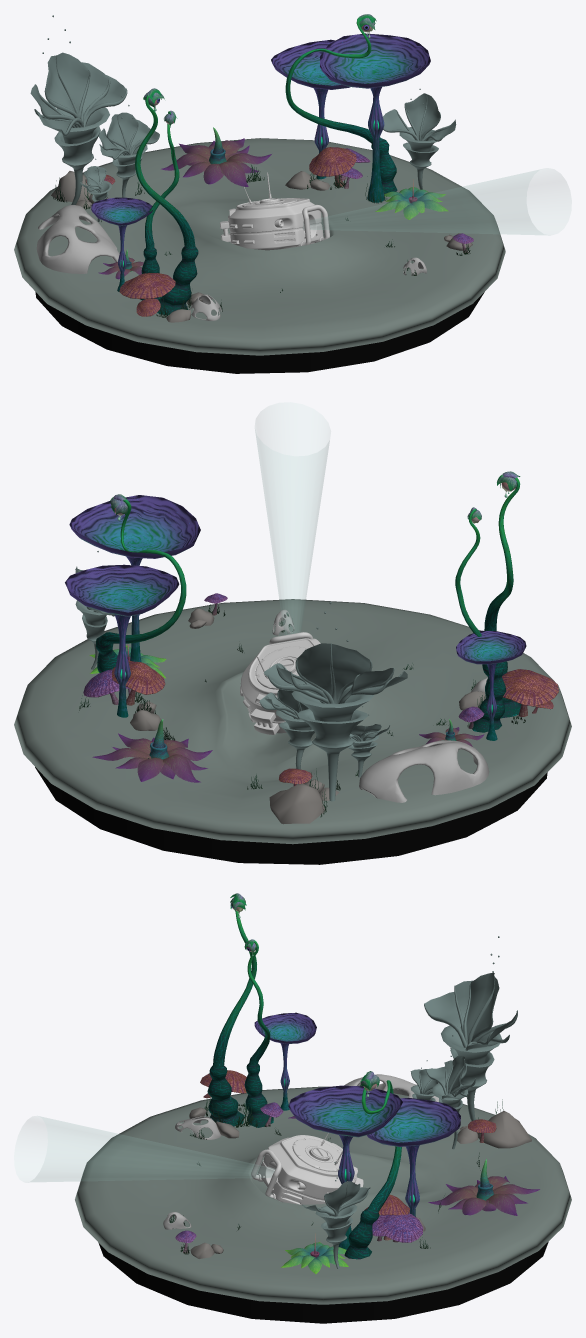
File: alien-world.fbx
The picture shows the model from 3 angles, top to bottom: view 1: azimuth 30°, elevation 25°; view 2: azimuth 150°, elevation 25°; view 3: azimuth 270°, elevation 25°; orthographic projection. The views are drawn at different scales.
Visible parts, largest first — view 1: polySurface162, pCylinder34, groundBlack, Biig_LP, AlienRock1_LP, pSphere15, Fmid1_LP, polySurface204, polySurface128, PeacockPlant4, polySurface219, Peacock1_LP (+11 smaller); view 2: polySurface162, pCylinder34, groundBlack, Biig_LP, polySurface128, AlienRock1_LP, Peacock1_LP, Fmid1_LP, Pealeaf1_LP, polySurface129, Rocks_LP, polySurface219 (+9 smaller); view 3: polySurface162, pCylinder34, groundBlack, Biig_LP, polySurface128, polySurface204, Fmid1_LP, pSphere15, polySurface219, polySurface129, polySurface197, Peacock1_LP (+10 smaller).
Part boxes in pixels (bbox=[...]): polySurface162: bbox=[14, 138, 505, 355]; pCylinder34: bbox=[219, 169, 546, 250]; groundBlack: bbox=[35, 292, 484, 373]; Biig_LP: bbox=[320, 33, 430, 202]; AlienRock1_LP: bbox=[36, 205, 119, 273]; pSphere15: bbox=[383, 88, 456, 189]; Fmid1_LP: bbox=[161, 127, 271, 186]; polySurface204: bbox=[135, 95, 198, 315]; polySurface128: bbox=[271, 39, 350, 179]; PeacockPlant4: bbox=[98, 112, 159, 197]; polySurface219: bbox=[285, 17, 397, 193]; Peacock1_LP: bbox=[54, 107, 109, 204]; polySurface162: bbox=[14, 599, 571, 844]; pCylinder34: bbox=[240, 429, 329, 734]; groundBlack: bbox=[35, 767, 547, 864]; Biig_LP: bbox=[69, 495, 200, 661]; polySurface128: bbox=[65, 564, 179, 717]; AlienRock1_LP: bbox=[359, 740, 489, 802]; Peacock1_LP: bbox=[291, 691, 374, 801]; Fmid1_LP: bbox=[92, 719, 212, 782]; Pealeaf1_LP: bbox=[297, 643, 370, 703]; polySurface129: bbox=[456, 630, 526, 740]; Rocks_LP: bbox=[269, 779, 338, 824]; polySurface219: bbox=[96, 499, 186, 672]; polySurface162: bbox=[75, 1086, 571, 1304]; pCylinder34: bbox=[30, 1116, 363, 1204]; groundBlack: bbox=[98, 1242, 548, 1323]; Biig_LP: bbox=[288, 1085, 402, 1249]; polySurface128: bbox=[367, 1097, 460, 1216]; polySurface204: bbox=[207, 911, 256, 1126]; Fmid1_LP: bbox=[428, 1158, 539, 1215]; pSphere15: bbox=[302, 1162, 370, 1268]; polySurface219: bbox=[344, 1080, 401, 1259]; polySurface129: bbox=[254, 1012, 316, 1110]; polySurface197: bbox=[244, 940, 273, 1127]; Peacock1_LP: bbox=[441, 1025, 502, 1120].
Size of the model in its own units: 17.72 by 10.17 by 19.88.
